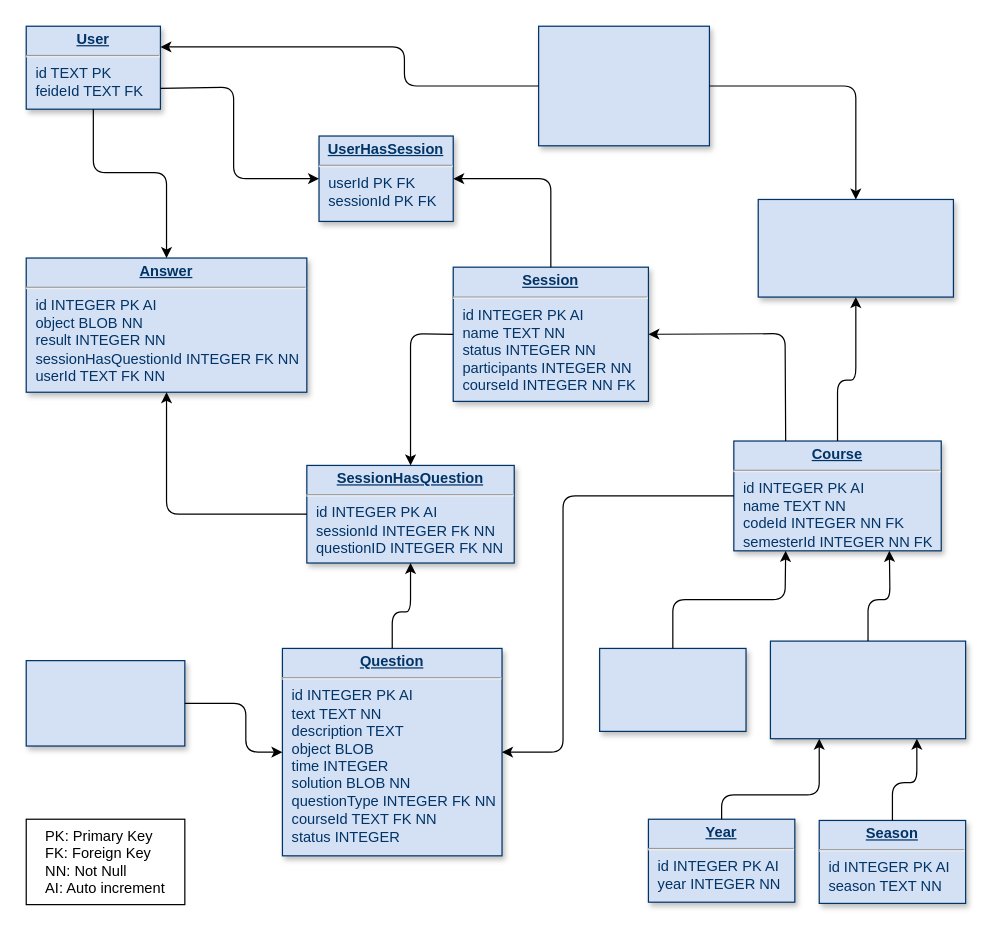
Image size: 994x933. Some labels were removed from this diagram. The centre of each missing label's shape, as x and y in pixels:
"CourseCode id INTEGER PK AI code TEXT NN" goes at (673,691).
"CourseSemester id INTEGER PK AI seasonId INTEGER NN FK yearId INTEGER NN FK" goes at (868,691).
"Feide id TEXT PK accessToken TEXT NN name TEXT NN sessionId TEXT NN" goes at (625,87).
"Type type INTEGER PK AI name TEXT NN" goes at (106,705).
"UserRight feideId TEXT PK FK courseId INTEGER PK FK level INTEGER NN" goes at (856,249).
